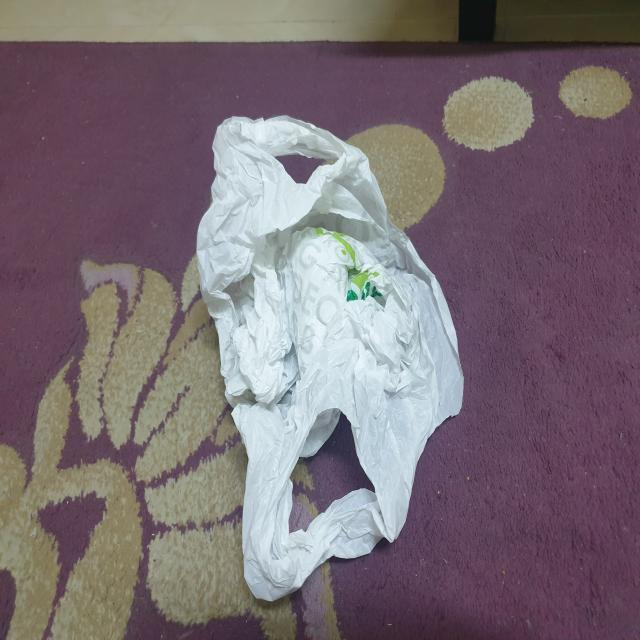Plastic_Bag: (191, 100, 475, 610)
